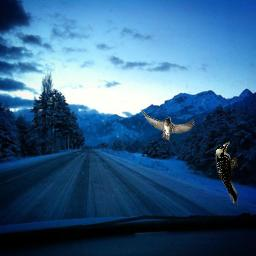Swallow: (140, 109, 195, 142)
Woodpecker: (212, 140, 243, 209)
